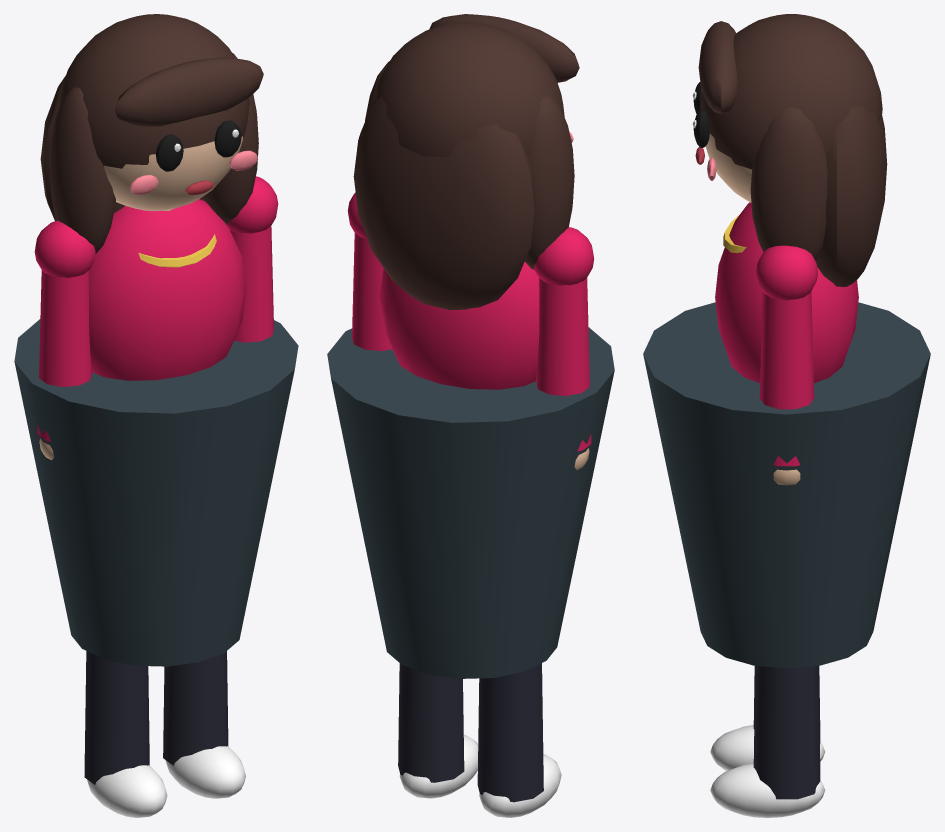
Rendered from journey_mindy.glb.
3 renders of one model, left to right at view 1: azimuth 30°, elevation 25°; view 2: azimuth 150°, elevation 25°; view 3: azimuth 270°, elevation 25°, orthographic.
Visible parts, largest first — view 1: Body.002, Leg_R.001, Leg_L.001, Arm_R.001, Arm_L.001; view 2: Body.002, Leg_R.001, Leg_L.001, Arm_R.001, Arm_L.001; view 3: Body.002, Leg_L.001, Arm_L.001, Leg_R.001.
Part boxes in pixels (x1,y1,x2,y2): Body.002: (14,14,298,666); Leg_R.001: (84,651,167,817); Leg_L.001: (163,651,245,798); Arm_R.001: (34,220,95,459); Arm_L.001: (227,176,278,342); Body.002: (327,14,614,678); Leg_R.001: (477,663,561,817); Leg_L.001: (398,663,478,798); Arm_R.001: (533,227,594,469); Arm_L.001: (347,192,392,351); Body.002: (643,14,930,668); Leg_L.001: (710,666,825,817); Arm_L.001: (756,245,817,485); Leg_R.001: (710,666,825,770).
Size of the model in its own units: 0.6 by 1.78 by 0.6.
